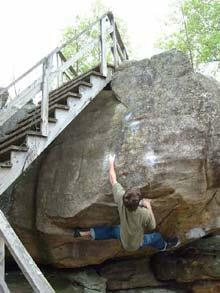person: (74, 153, 181, 255)
